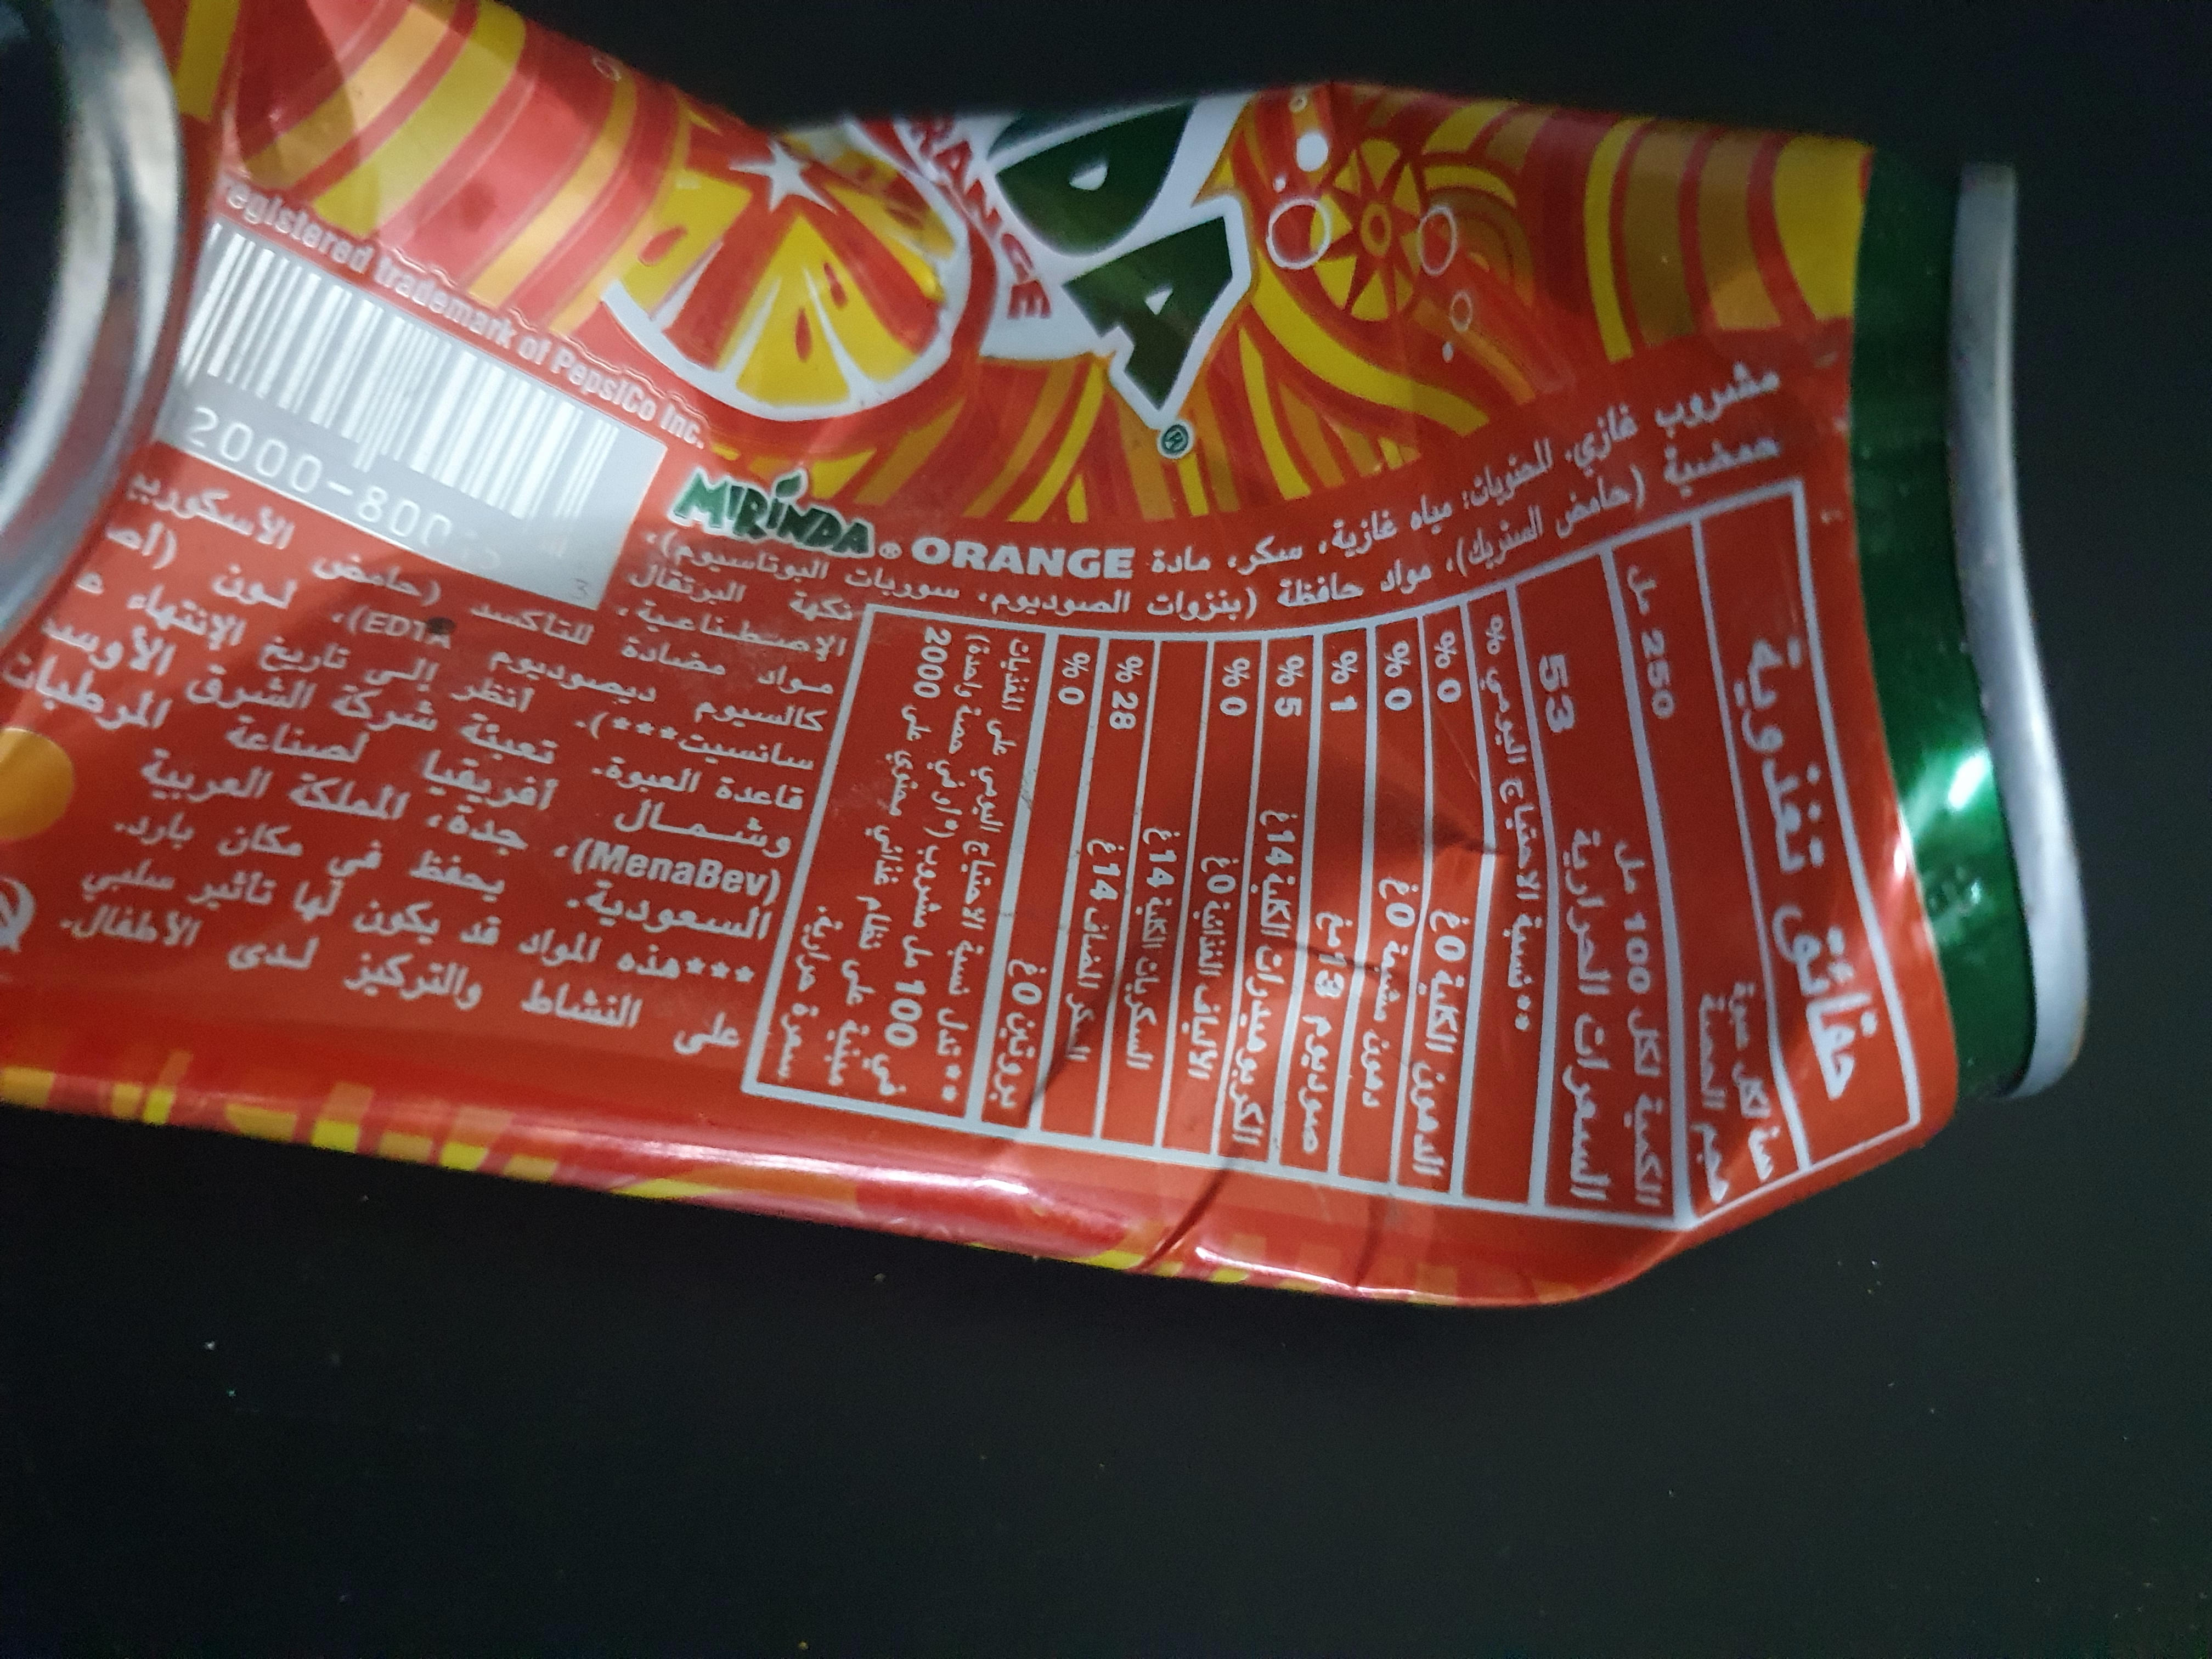metal: (0, 0, 2125, 1405)
